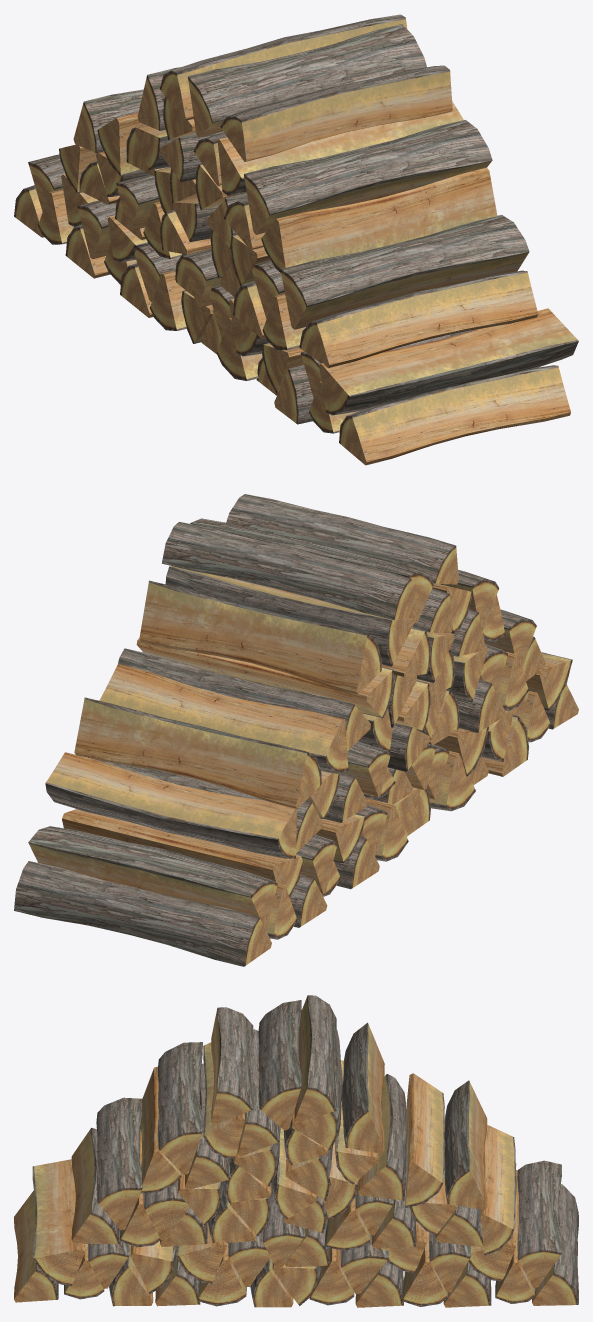
The model's file is firewood.obj.
The picture shows the model from 3 angles, top to bottom: view 1: azimuth 30°, elevation 25°; view 2: azimuth 150°, elevation 25°; view 3: azimuth 270°, elevation 25°; orthographic projection. The views are drawn at different scales.
Visible parts, largest first — view 1: Cylinder.044_Firewood_0; view 2: Cylinder.044_Firewood_0; view 3: Cylinder.044_Firewood_0.
Part boxes in pixels (x1=…): Cylinder.044_Firewood_0: x1=14, y1=14, x2=578, y2=465; Cylinder.044_Firewood_0: x1=14, y1=494, x2=578, y2=966; Cylinder.044_Firewood_0: x1=14, y1=995, x2=578, y2=1307.
Size of the model in its own units: 0.5823 by 0.6223 by 1.4.
Materials: 1 (1 with a texture image).
